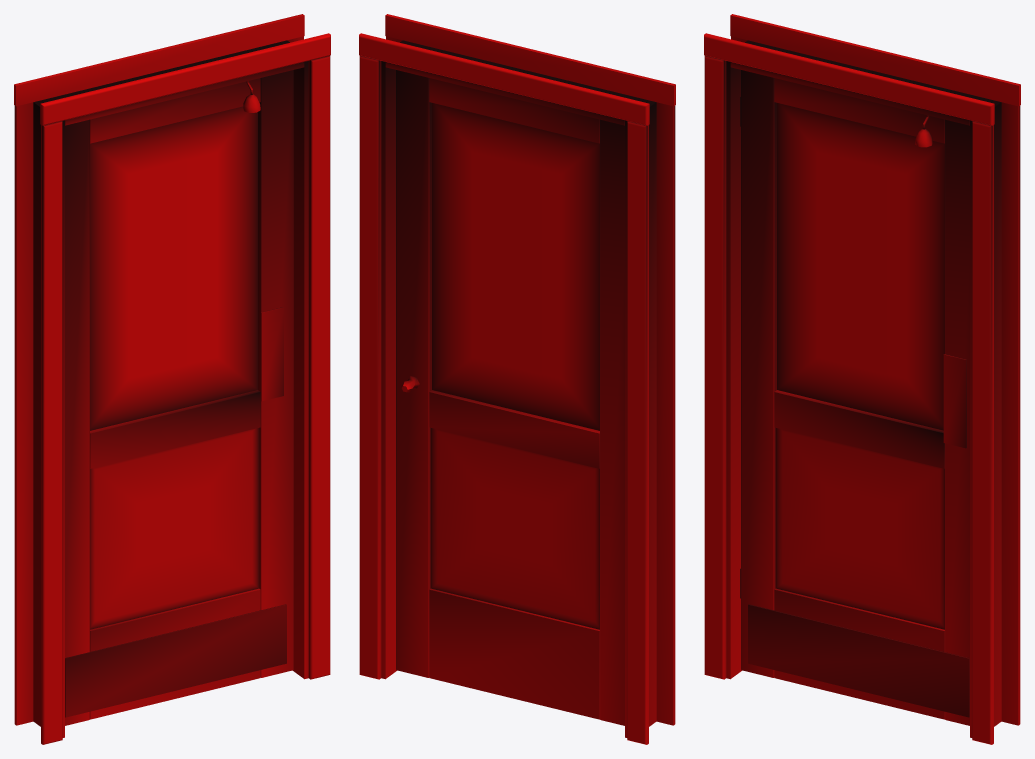
Rendered from CI_Shell_Door_Shop.glb.
3 renders of one model, left to right at view 1: azimuth 30°, elevation 25°; view 2: azimuth 150°, elevation 25°; view 3: azimuth 330°, elevation 25°, orthographic.
Visible parts, largest first — view 1: CI_Shell_Door_Shop; view 2: CI_Shell_Door_Shop; view 3: CI_Shell_Door_Shop.
Boxes of the visible parts, bbox=[...] form: CI_Shell_Door_Shop: bbox=[14, 14, 330, 744]; CI_Shell_Door_Shop: bbox=[359, 14, 675, 744]; CI_Shell_Door_Shop: bbox=[704, 14, 1020, 744].
Size of the model in its own units: 1.02 by 2.17 by 0.186.
